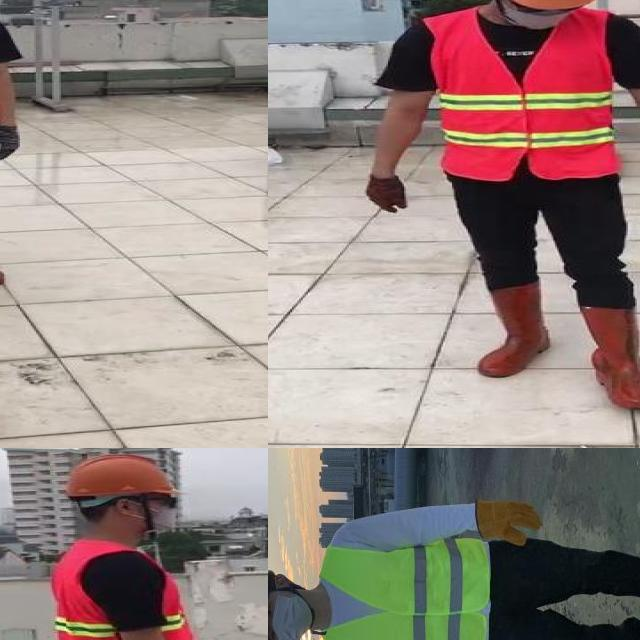boots: (576, 301, 640, 410), (479, 281, 548, 379)
face_mask: (130, 494, 185, 534)
hand_glove: (367, 173, 408, 214), (0, 124, 21, 160)
head_helmet: (59, 453, 181, 498)
person: (357, 0, 640, 420), (268, 477, 640, 640), (31, 448, 239, 640)
vest: (427, 8, 621, 178), (312, 537, 492, 640), (52, 535, 210, 640)
